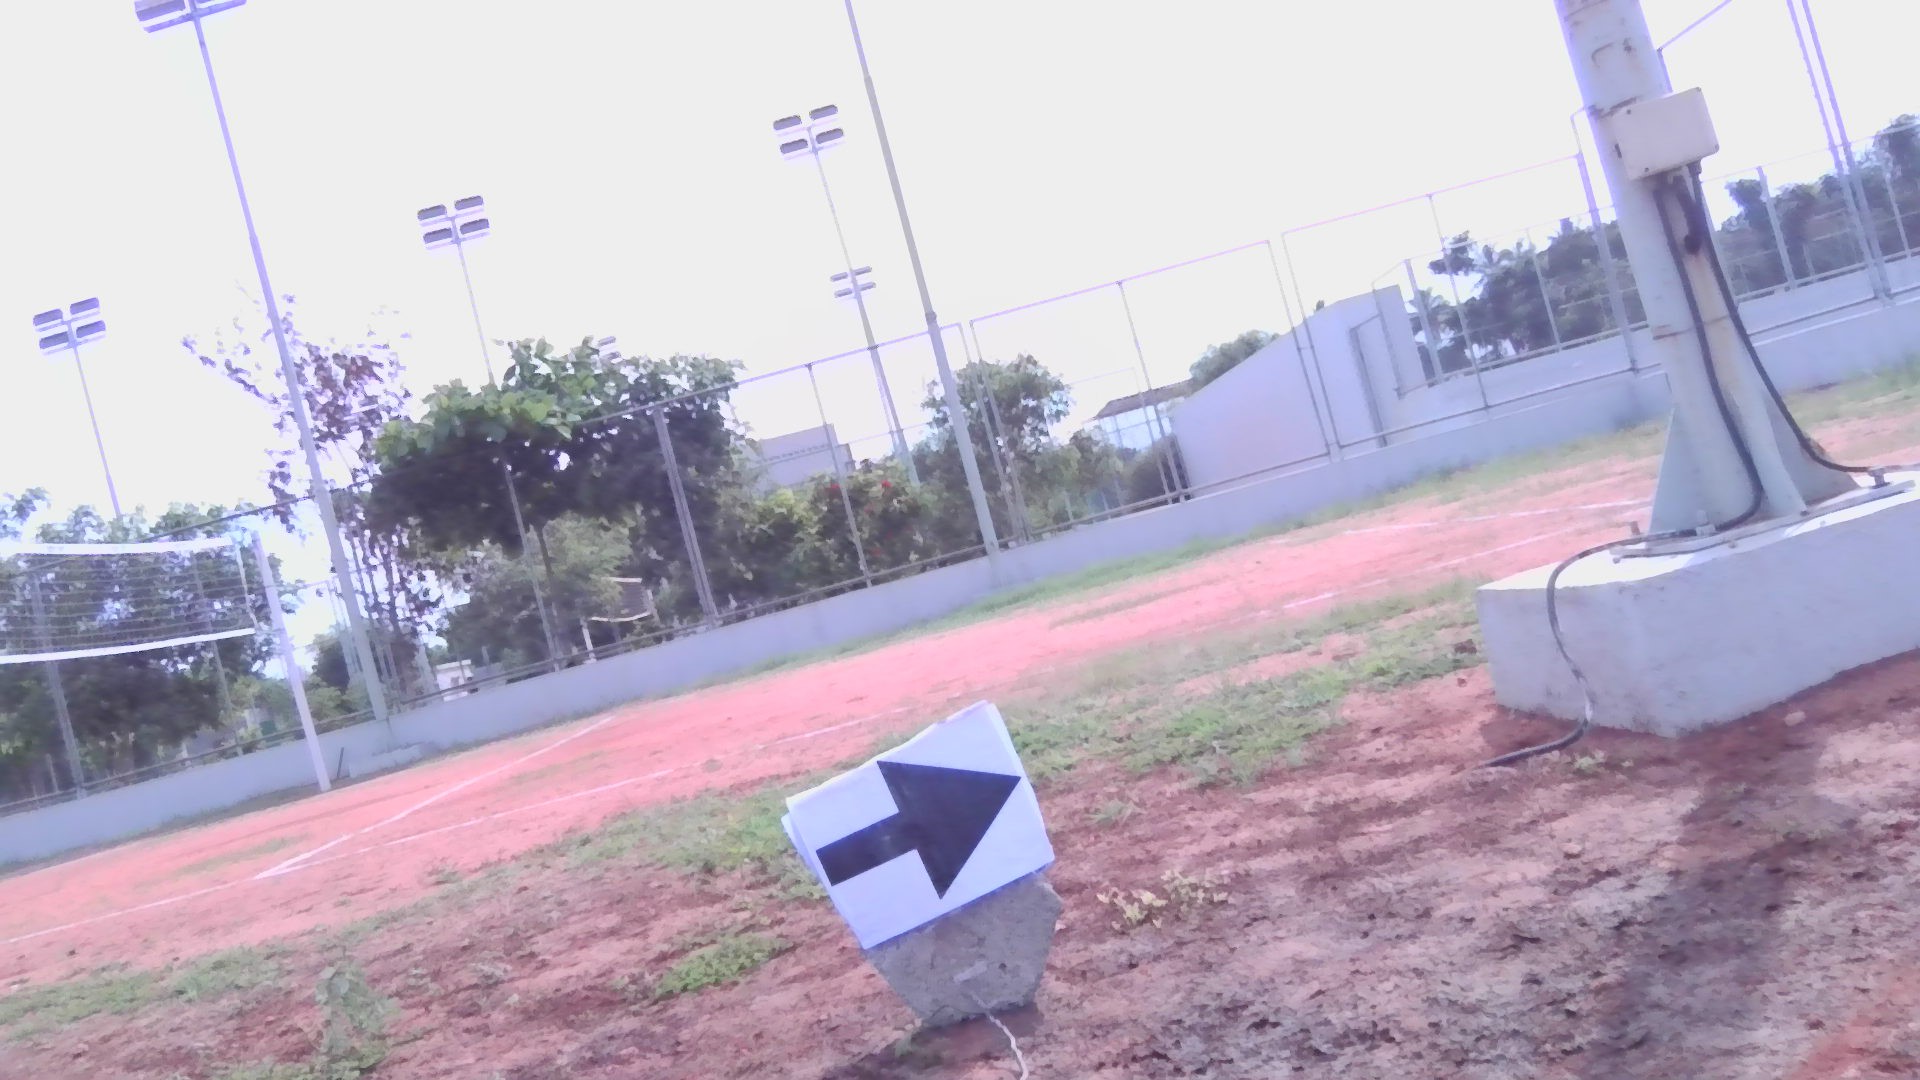leftDir: (793, 702, 1036, 928)
